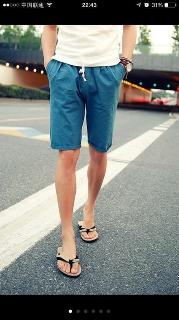short sleeve top: (52, 25, 121, 67)
shorts: (45, 57, 127, 153)
